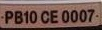character: (14, 9, 24, 25), (4, 9, 14, 24), (49, 9, 59, 24), (60, 8, 70, 23), (69, 8, 79, 23), (28, 10, 38, 24), (78, 8, 88, 22), (40, 9, 49, 24), (87, 7, 95, 22), (22, 10, 29, 24)
